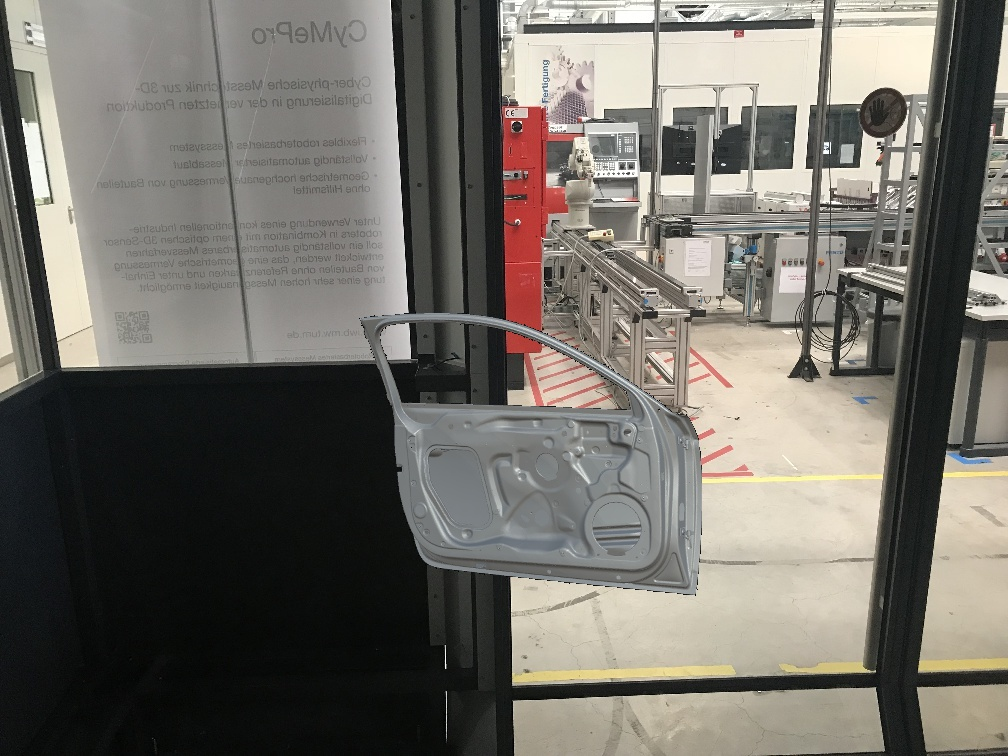car_door: (359, 312, 701, 595)
